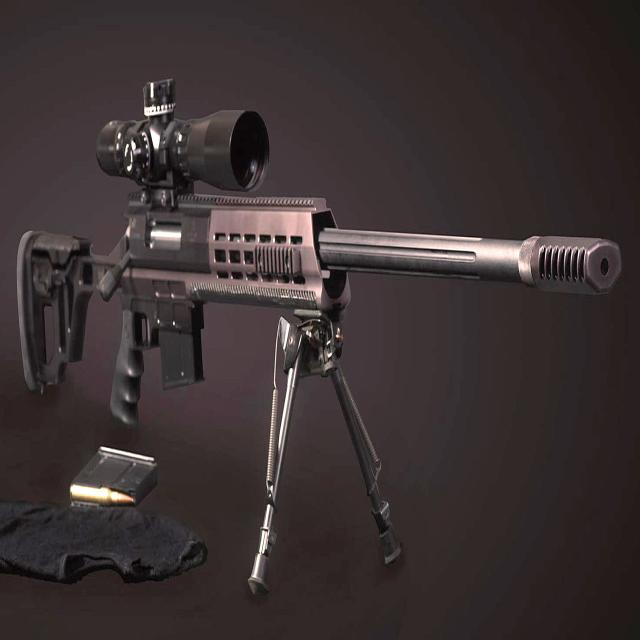Rifle: (16, 79, 623, 428)
